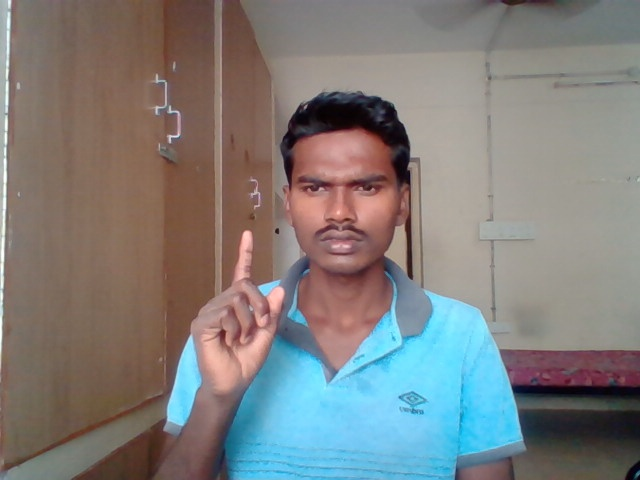No: (188, 228, 288, 404)
